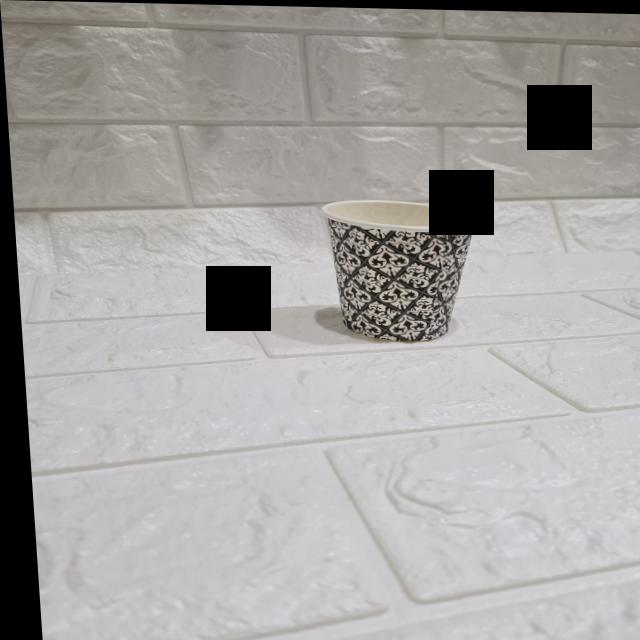cups: (301, 191, 486, 342)
